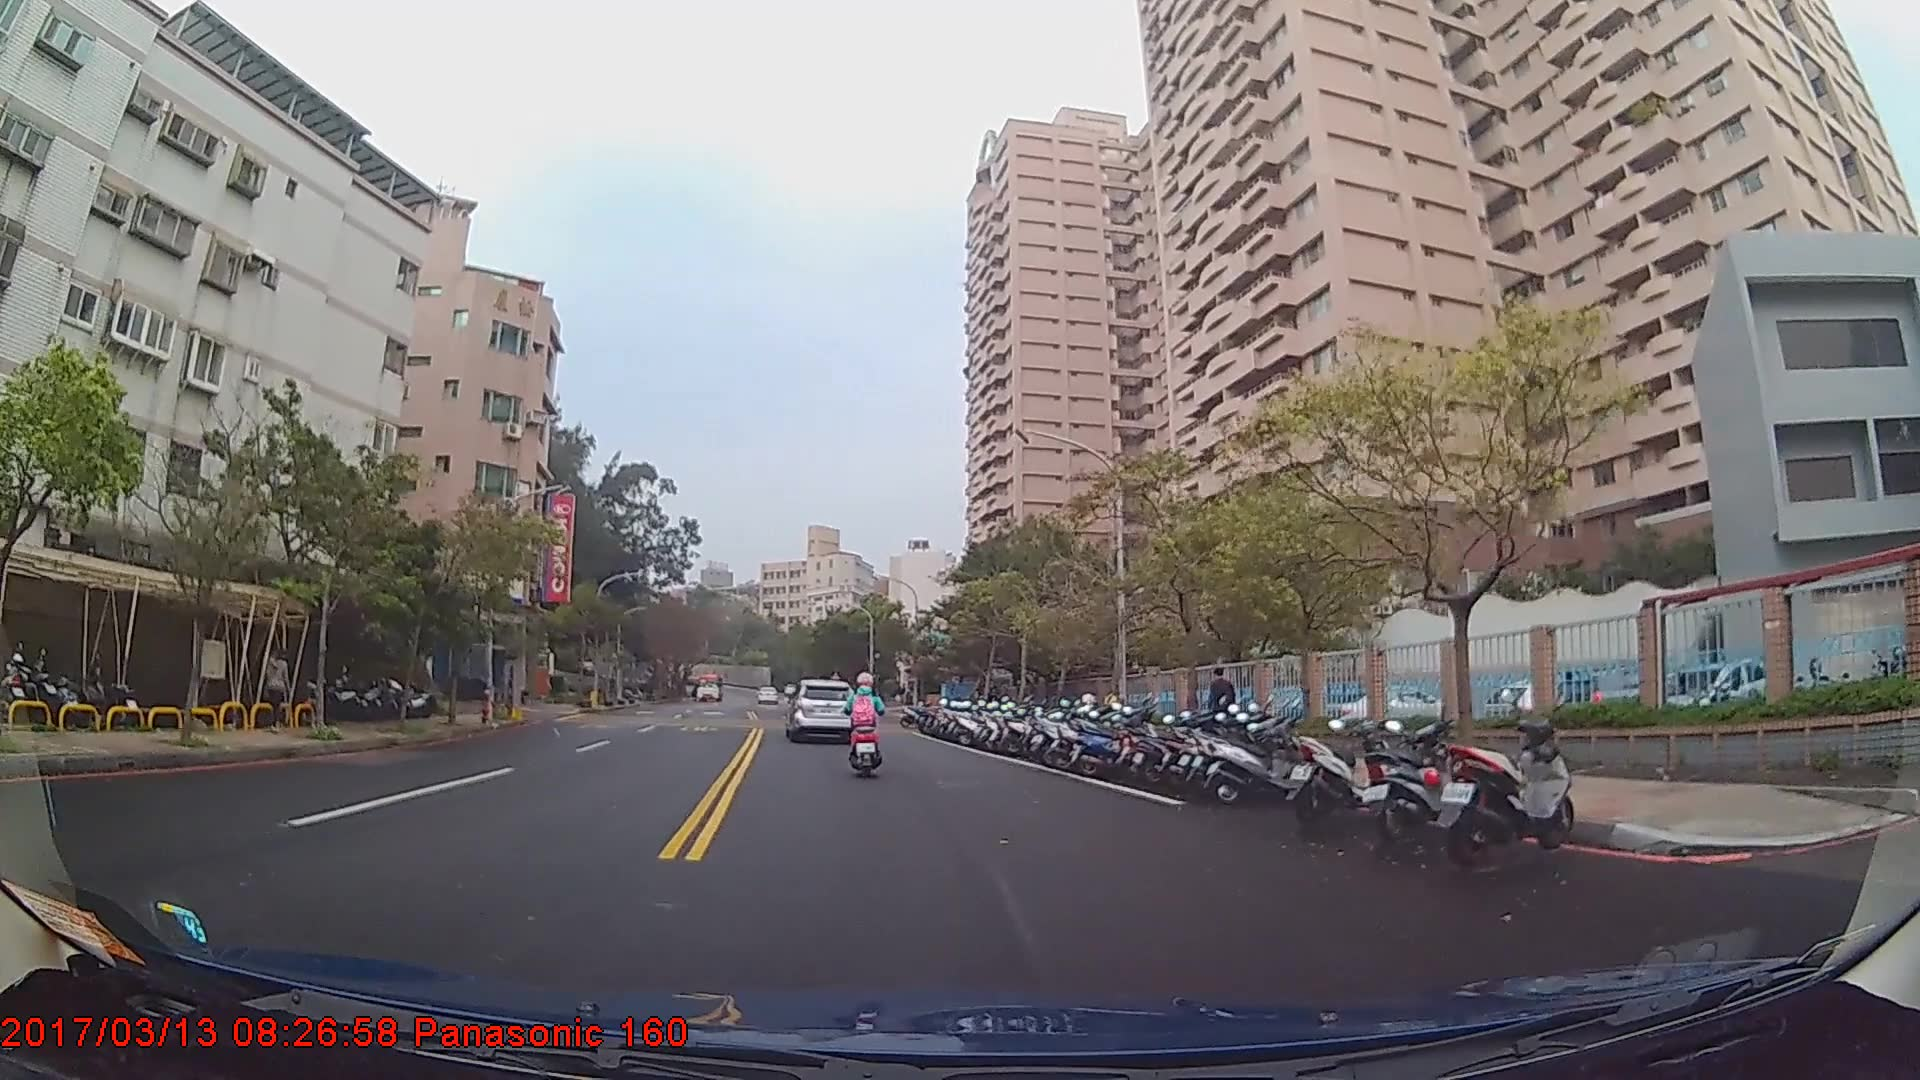pedestrian: (1208, 664, 1239, 747), (263, 648, 290, 731)
rider: (846, 673, 886, 771)
vehicle: (785, 676, 853, 743), (692, 672, 726, 703)
